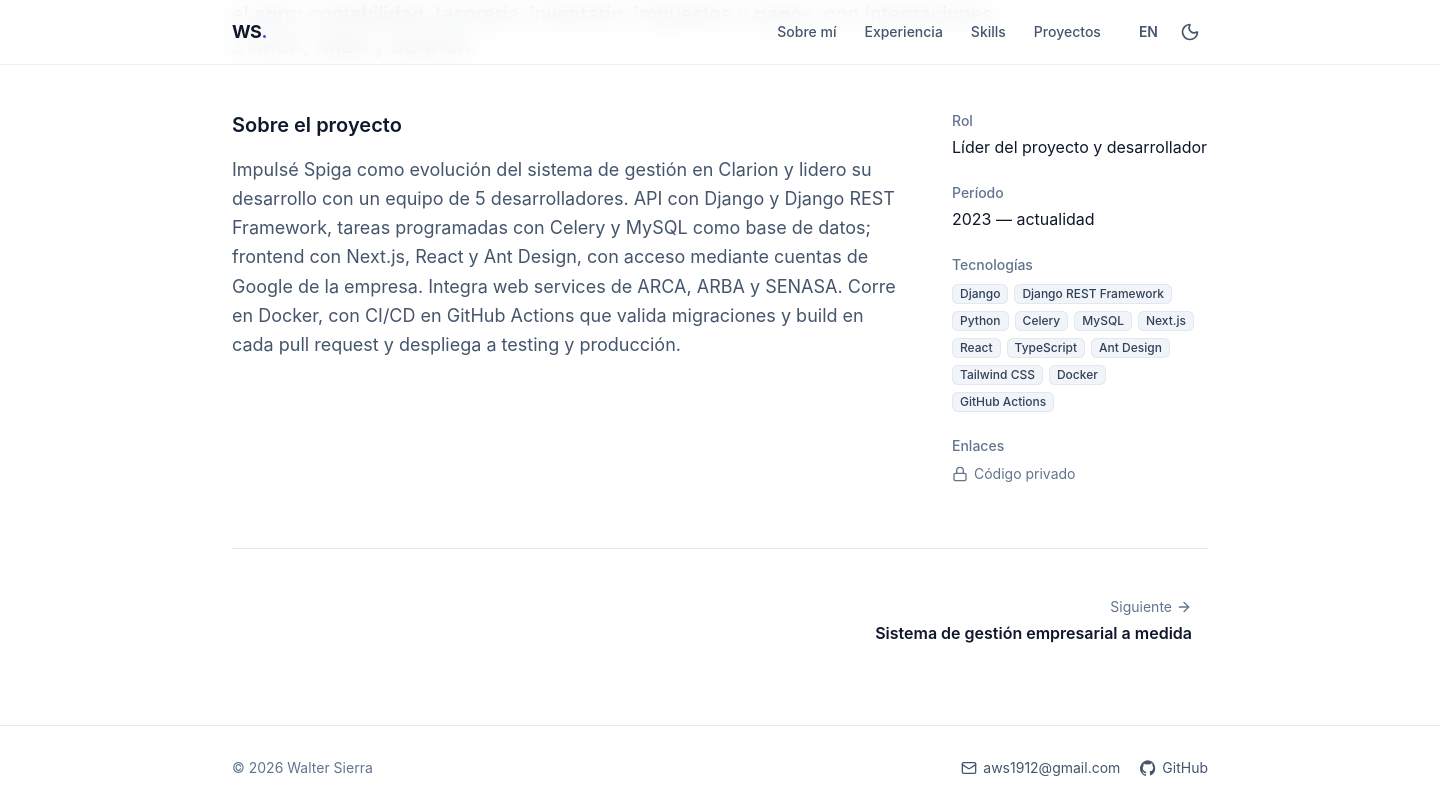
Scenario: Navegación entre rutas › el detalle muestra navegación al proyecto siguiente
(page scrolled)
What coordinates should you click on to do the following:
click the link "Siguiente Sistema de gestión empresarial a medida"
I would click on:
 (1034, 620)
Its box is [875,598,1192,642].
(page scrolled)
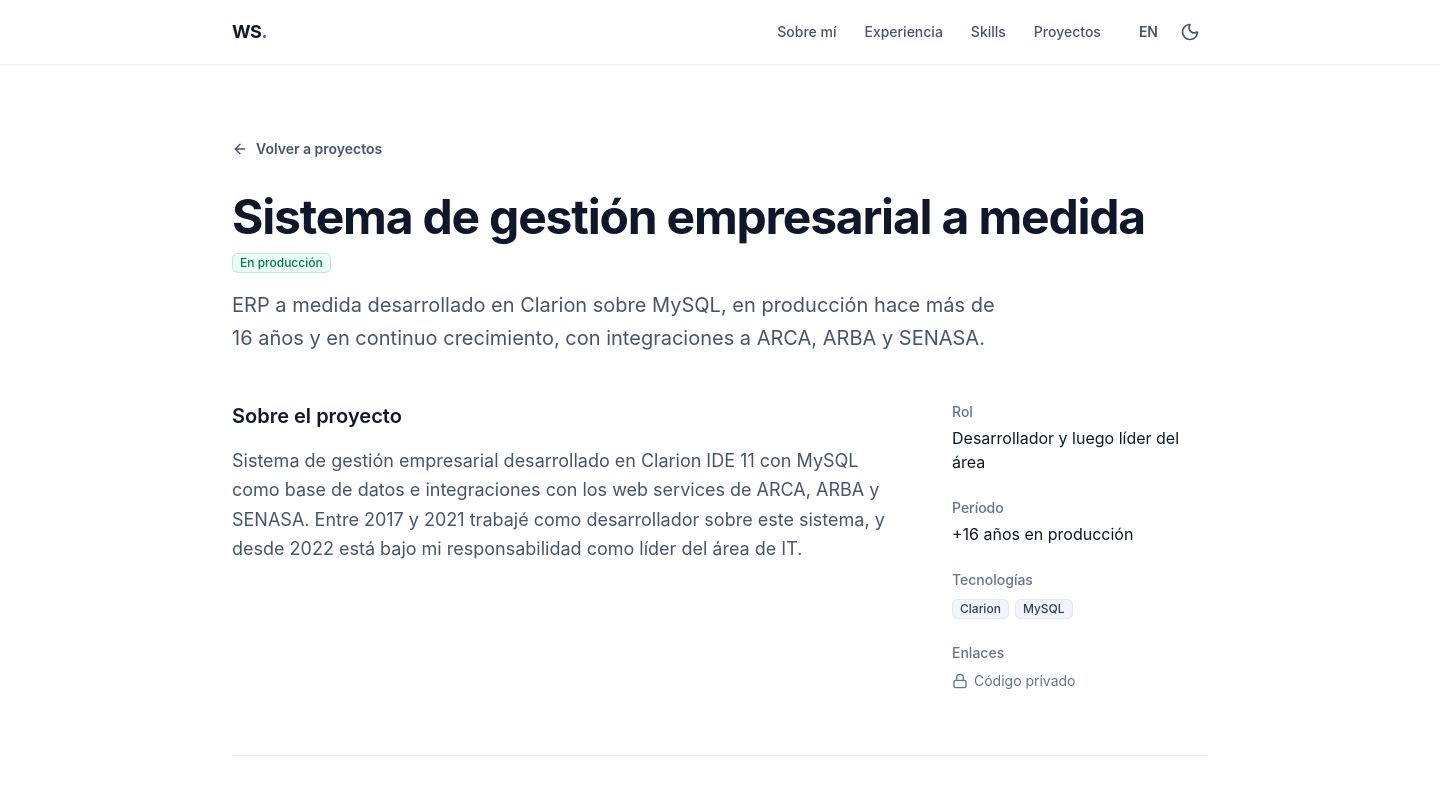
Expected: the heading "Sistema de gestión empresarial a medida" is shown, [232,193,1145,241]
